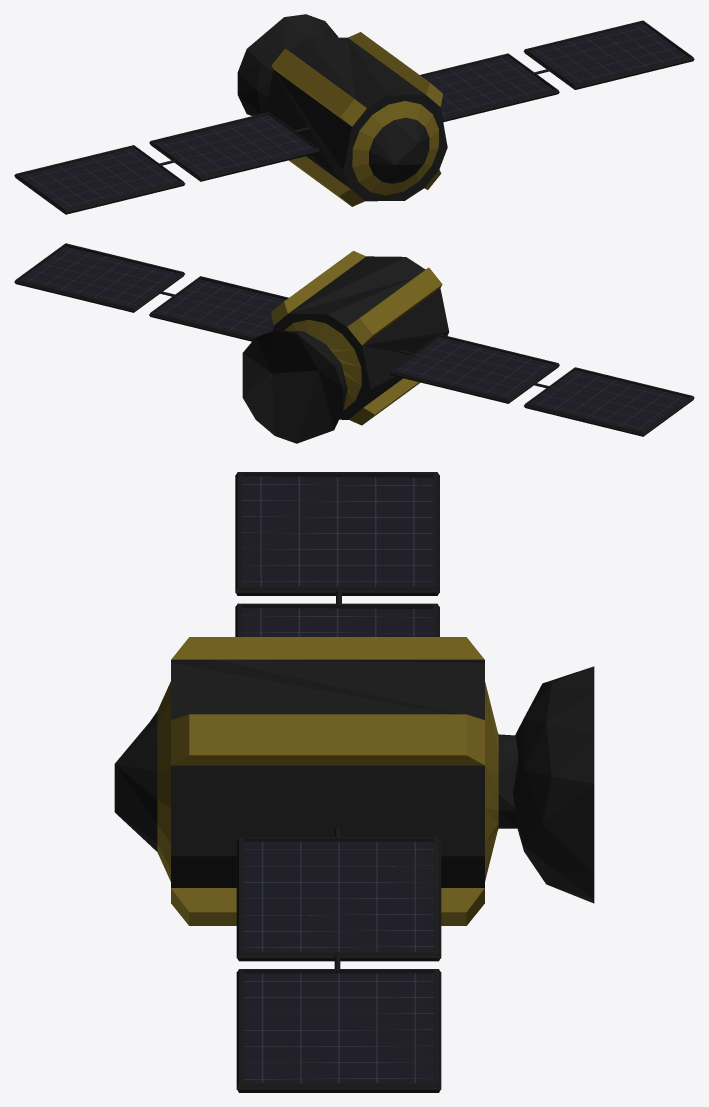
Rendered from Satellite.FBX.
3 views of the same model, one above another, from view 1: azimuth 30°, elevation 25°; view 2: azimuth 150°, elevation 25°; view 3: azimuth 270°, elevation 25° (orthographic). The views are drawn at different scales.
Visible parts, largest first — view 1: Satellite; view 2: Satellite; view 3: Satellite.
Boxes of the visible parts, x1,y1,x2,y2 form: Satellite: (14, 14, 694, 214); Satellite: (14, 243, 694, 443); Satellite: (114, 472, 594, 1092).
Bounding box in the file's own units: 15.98 × 2.68 × 5.27.
